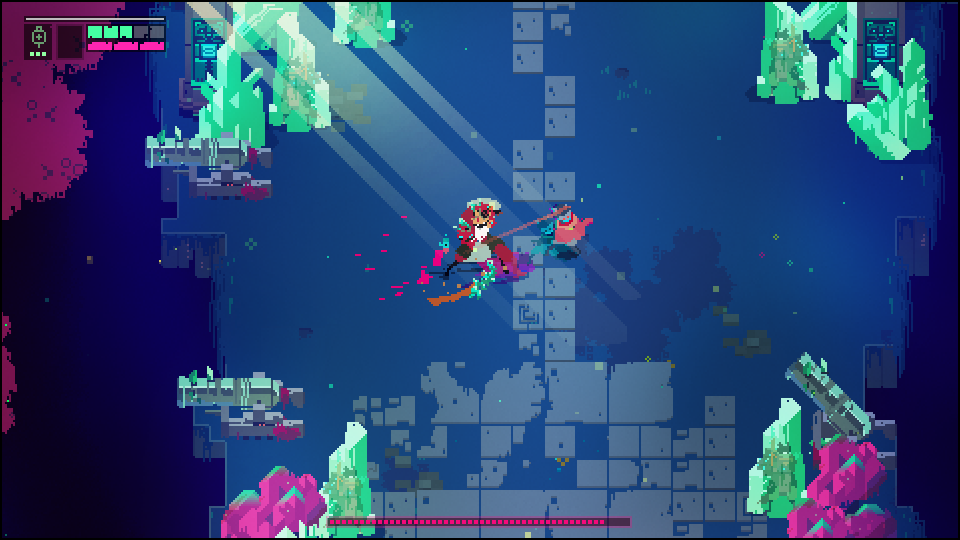hanged_man: (425, 192, 512, 307)
player: (546, 203, 594, 260)
